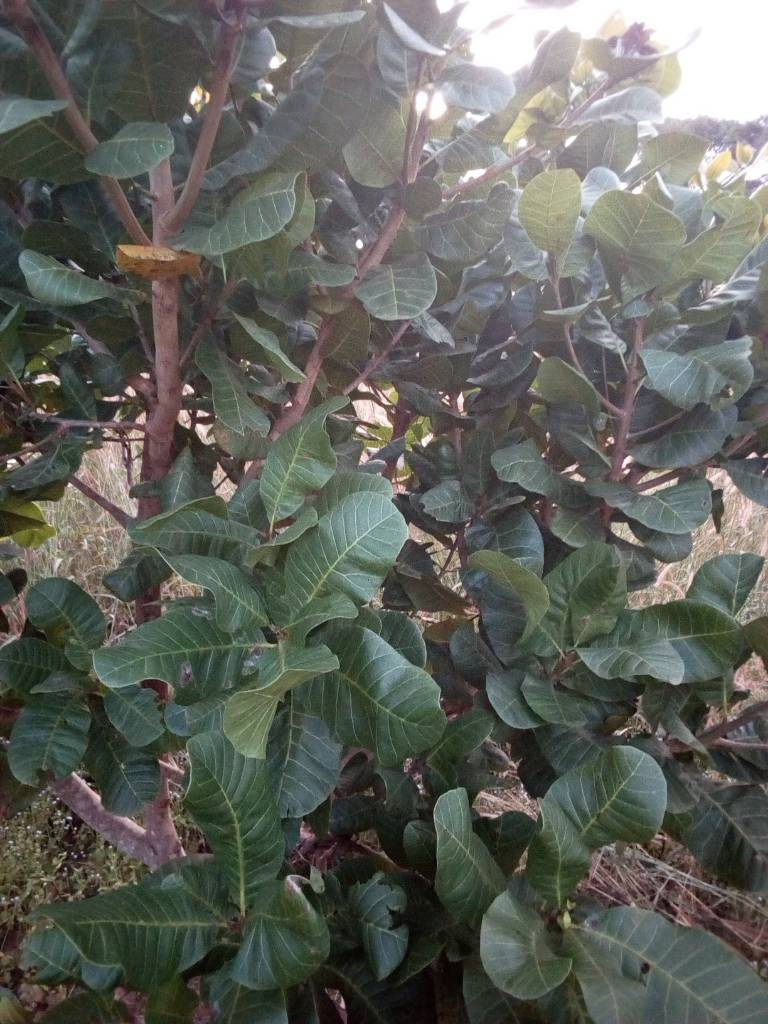Anoplocnemis curvipes: (7, 697, 88, 785)
